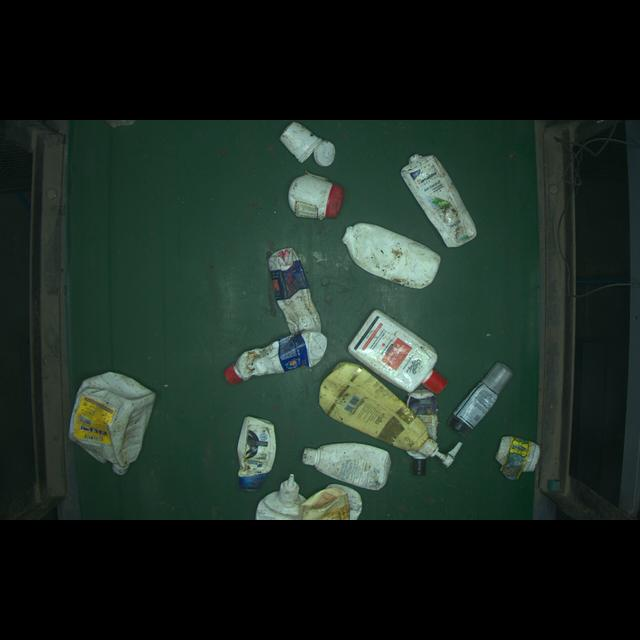mix PET: (70, 364, 161, 479), (351, 301, 451, 395), (303, 438, 394, 492), (232, 406, 282, 498), (453, 357, 512, 431)
